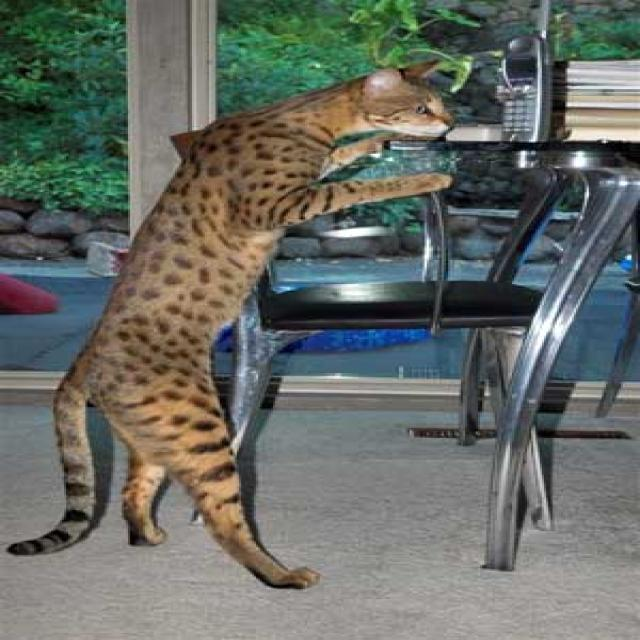Egyptian_Mau: (348, 52, 472, 152)
